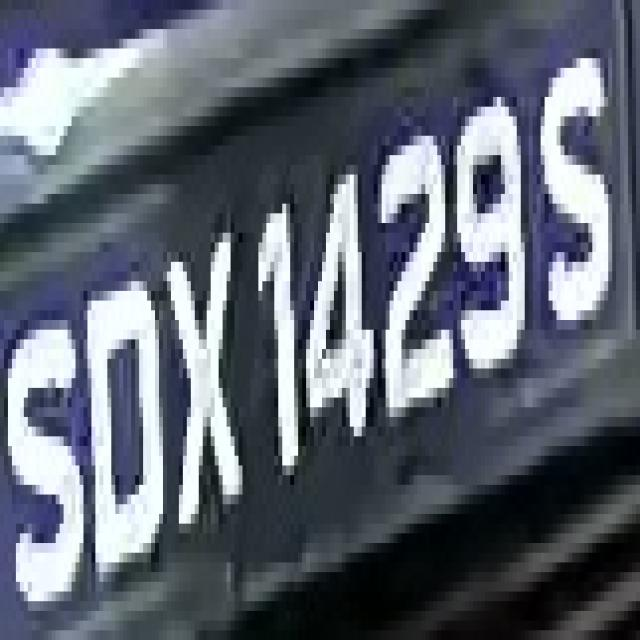1: (239, 174, 310, 485)
2: (350, 107, 465, 417)
4: (290, 146, 382, 475)
9: (441, 68, 541, 378)
D: (79, 262, 167, 601)
S: (12, 281, 87, 621), (537, 39, 624, 320)
X: (159, 213, 250, 524)
